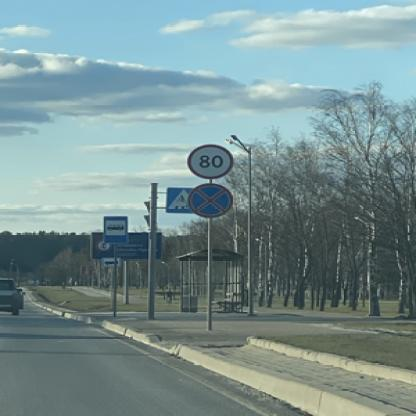Speed Limit 80: (190, 143, 234, 178)
